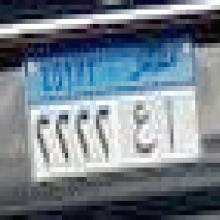2: (73, 105, 92, 165), (35, 109, 51, 169), (94, 103, 110, 162), (55, 110, 70, 163)
ain: (133, 100, 156, 154)
alif: (161, 93, 180, 160)
